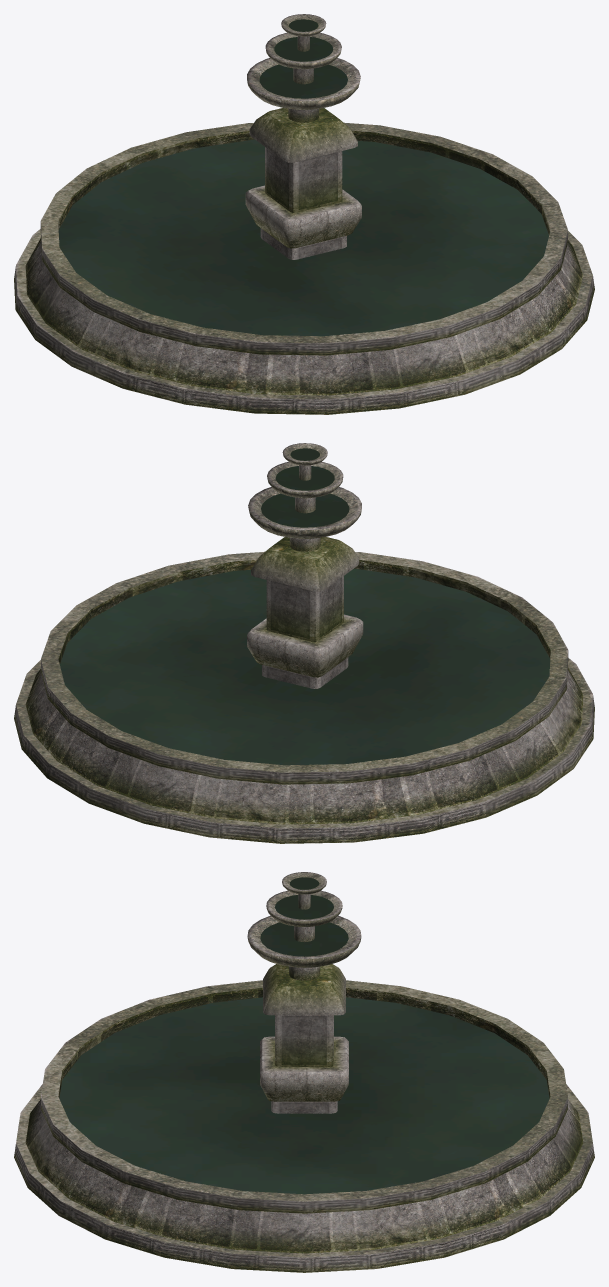
Rendered from fountain.DAE.
The picture shows the model from 3 angles, top to bottom: view 1: azimuth 30°, elevation 25°; view 2: azimuth 150°, elevation 25°; view 3: azimuth 270°, elevation 25°; orthographic projection.
Visible parts, largest first — view 1: Box003, Box001, Object002; view 2: Box003, Box001, Object002; view 3: Box003, Box001, Object002.
Boxes of the visible parts, x1,y1,x2,y2 form: Box003: [58, 19, 548, 336]; Box001: [14, 122, 594, 414]; Object002: [245, 14, 361, 259]; Box003: [60, 448, 550, 765]; Box001: [14, 551, 594, 843]; Object002: [247, 443, 363, 688]; Box003: [59, 877, 549, 1194]; Box001: [14, 980, 594, 1272]; Object002: [247, 872, 361, 1113].
Bounding box in the file's own units: 8.78 × 8.8 × 4.48.
